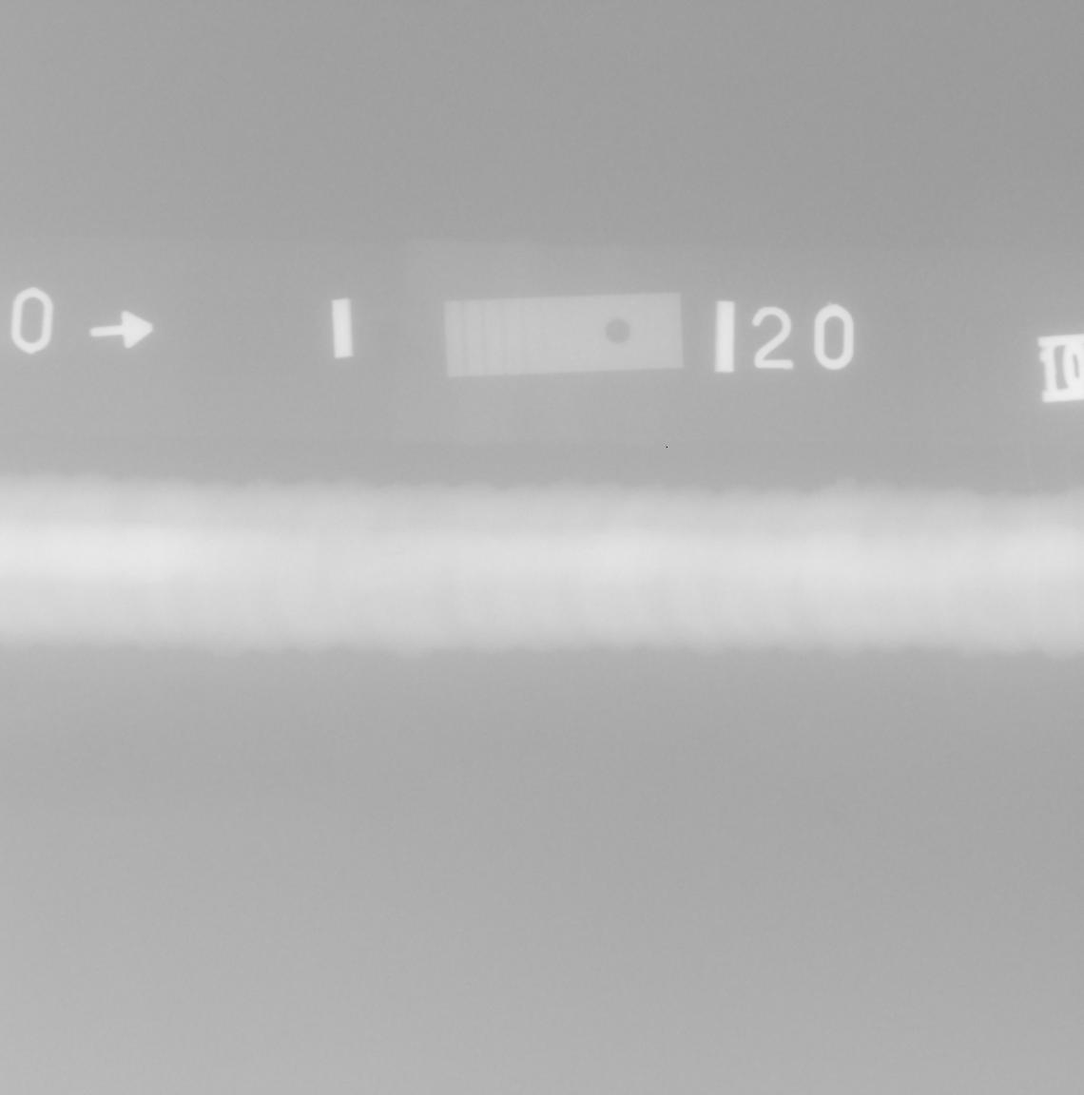Inclusion: (369, 527, 394, 532), (384, 552, 402, 557)
Reference Standard 1: (445, 292, 684, 377)
